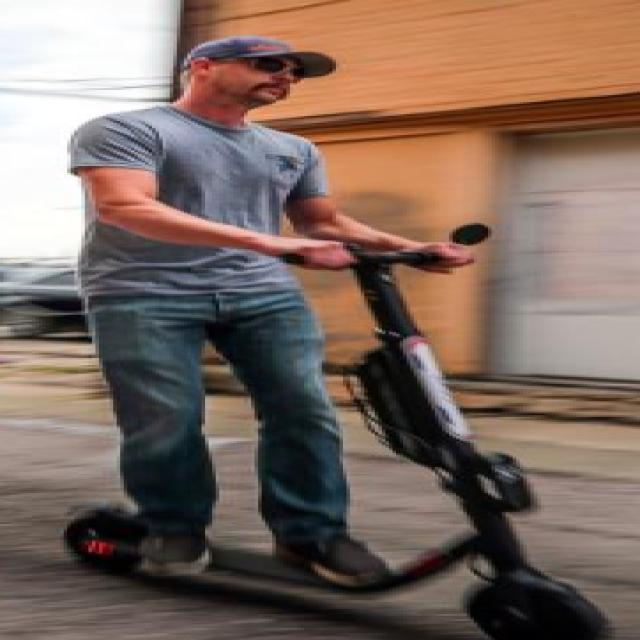non-helmet: (32, 27, 609, 640)
